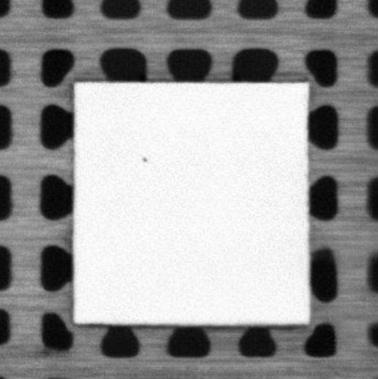DIE_INK: (140, 154, 149, 165)
